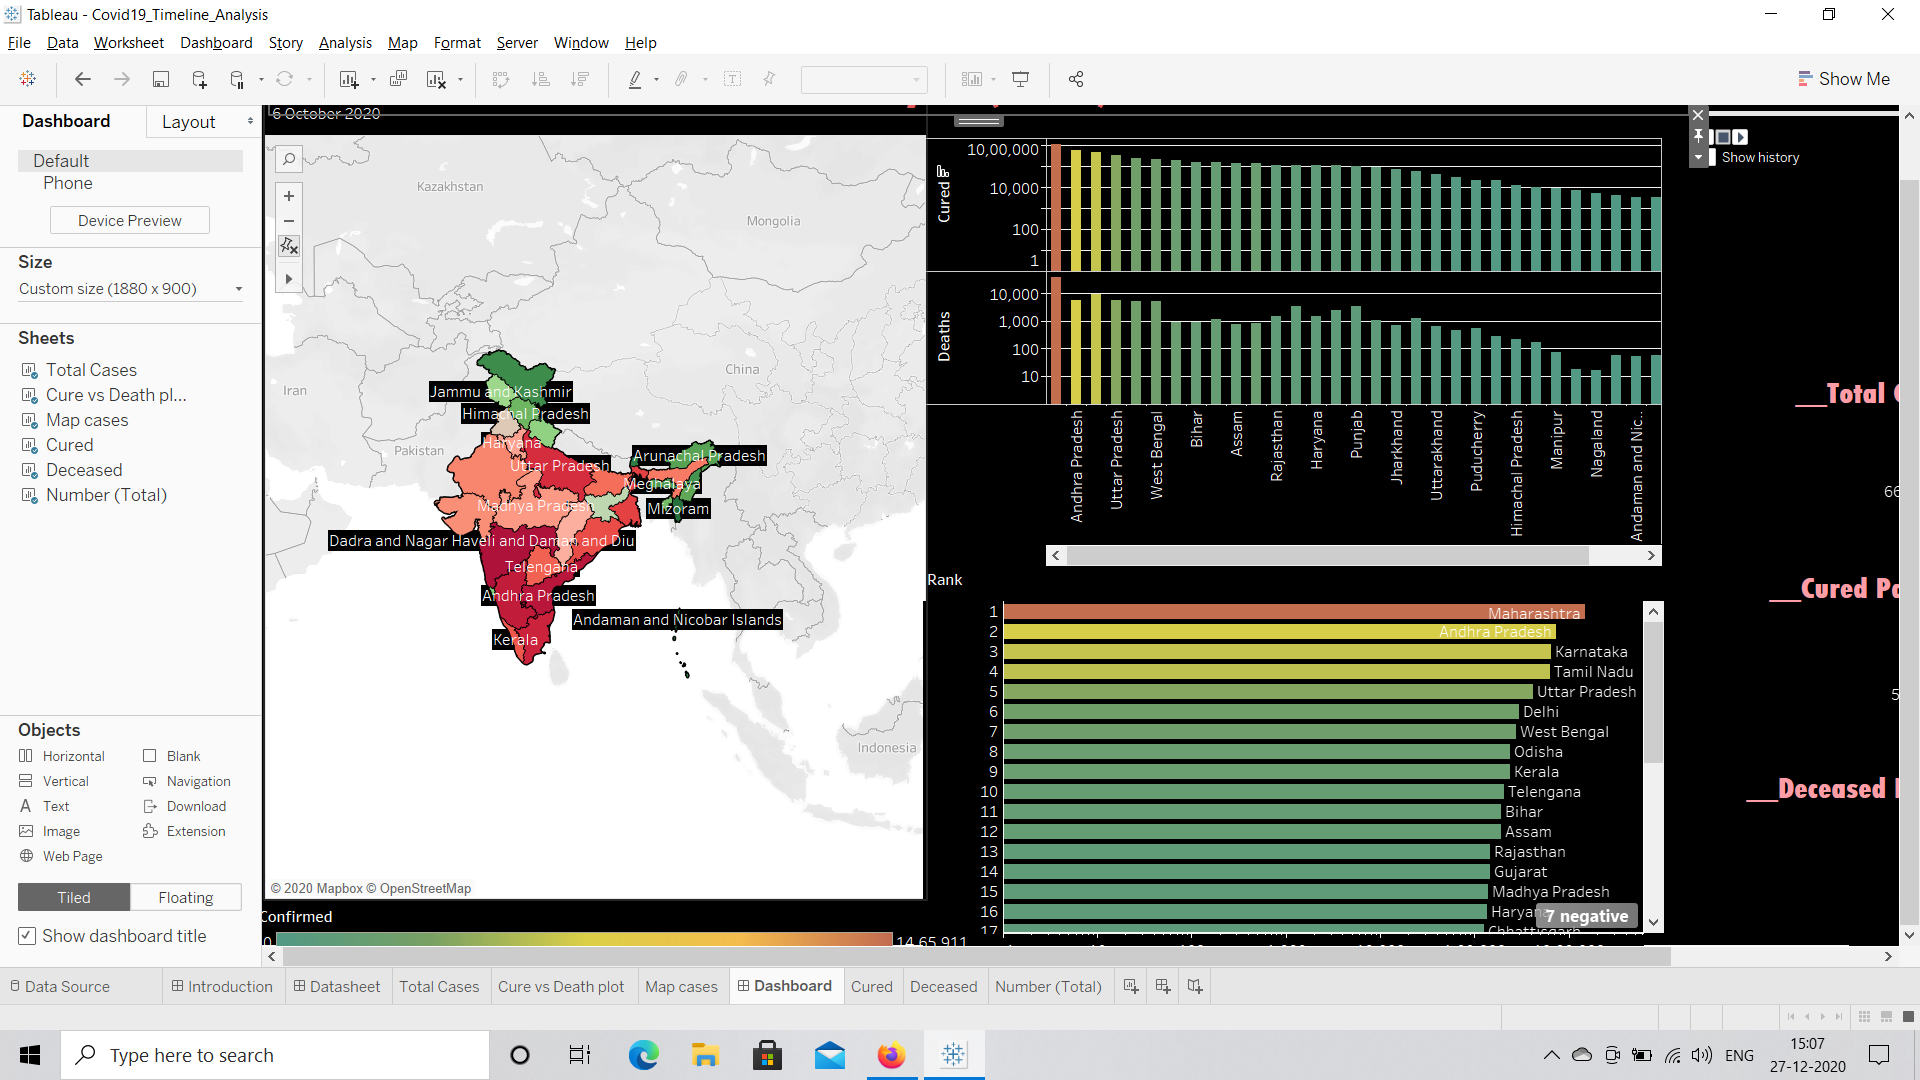

This screenshot's page, from the dashboard's own definition file:
{"tool":"tableau","page":{"name":"Dashboard ","canvas":[1880,900],"ordinal":0},"visuals":[{"type":"worksheet","box":[0,0,1880,900]},{"type":"worksheet","param":"horz","box":[8,8,1864,884]},{"type":"worksheet","param":"vert","box":[8,8,1418,884]},{"type":"worksheet","box":[8,8,1418,61]},{"type":"worksheet","param":"vert","box":[1426,8,446,884]},{"type":"worksheet","title":"Map cases","mark":"Automatic","box":[1426,8,446,132]},{"type":"worksheet","title":"Map cases","mark":"Automatic","box":[3,54,661,800]},{"type":"worksheet","box":[8,69,1418,823]},{"type":"worksheet","title":"Cure vs Death plot","mark":"Bar","rows":["Cured","Deaths"],"cols":["State/UnionTerritory"],"box":[664,78,736,443]},{"type":"worksheet","box":[1530,328,282,41]},{"type":"worksheet","title":"Number (Total)","mark":"Pie","box":[1578,351,180,177]},{"type":"worksheet","param":"C:/Users/kriti/Desktop/1.PNG","box":[1422,411,434,53]},{"type":"worksheet","param":"Z:/GithubProjects/The-Sparks-Foundation-Tasks/img/2.PNG","box":[1420,412,449,57]},{"type":"worksheet","box":[1504,527,306,33]},{"type":"worksheet","title":"Cured","mark":"Pie","box":[1585,554,165,182]},{"type":"worksheet","box":[1481,724,362,39]}]}

Visuals, with their boxes on the page's 1880x900 design canvas (x1, y1, x2, y2). These are canvas units, not pixel positions in the 1920x1080 screenshot, which may show the page scaled, cropped or inside an application window:
worksheet: rect(0, 0, 1880, 900)
worksheet: rect(8, 8, 1872, 892)
worksheet: rect(8, 8, 1426, 892)
worksheet: rect(8, 8, 1426, 69)
worksheet: rect(1426, 8, 1872, 892)
"Map cases" worksheet: rect(1426, 8, 1872, 140)
"Map cases" worksheet: rect(3, 54, 664, 854)
worksheet: rect(8, 69, 1426, 892)
"Cure vs Death plot" worksheet (Bar marks): rect(664, 78, 1400, 521)
worksheet: rect(1530, 328, 1812, 369)
"Number (Total)" worksheet (Pie marks): rect(1578, 351, 1758, 528)
worksheet: rect(1422, 411, 1856, 464)
worksheet: rect(1420, 412, 1869, 469)
worksheet: rect(1504, 527, 1810, 560)
"Cured" worksheet (Pie marks): rect(1585, 554, 1750, 736)
worksheet: rect(1481, 724, 1843, 763)
